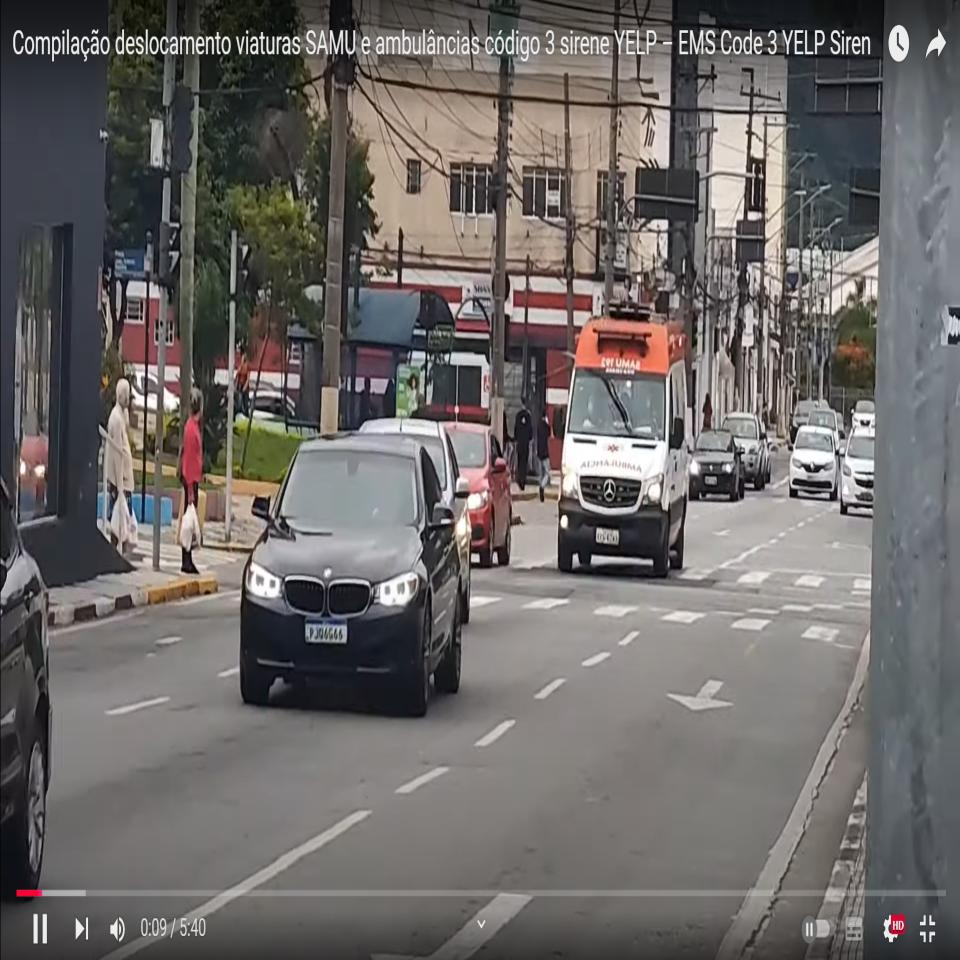bombeiro: (552, 312, 692, 580)
